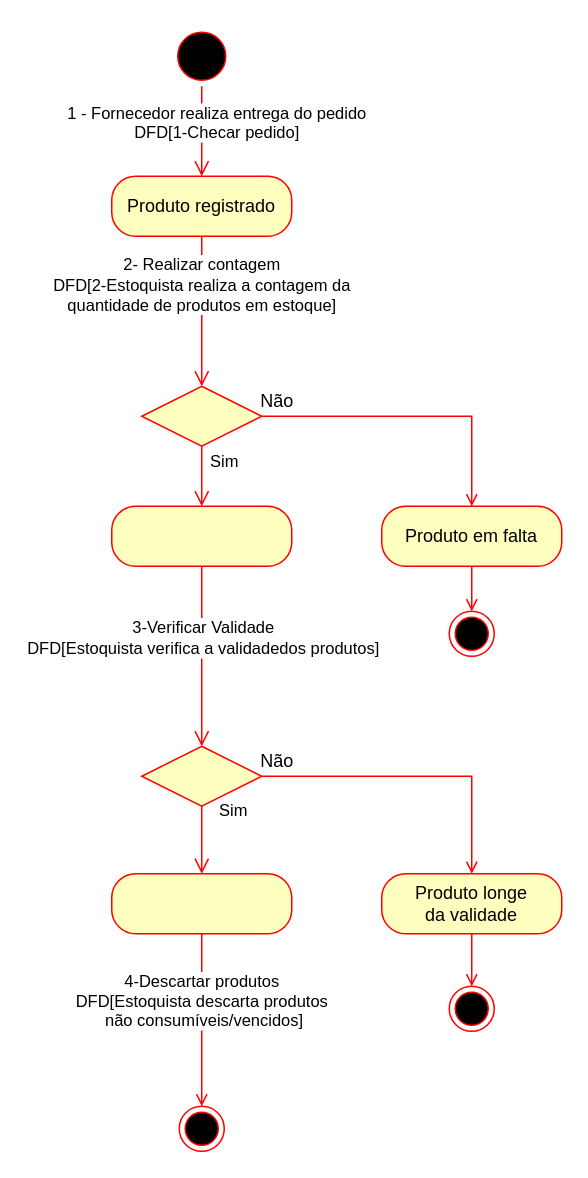
Some shapes in this 588 by 1178 pixel diagram are drawn without their labels. Each missing label, with the centre of its shape:
"Produto em estoque" goes at point 201,535.
"Produto próximo da validade" goes at point 201,903.
